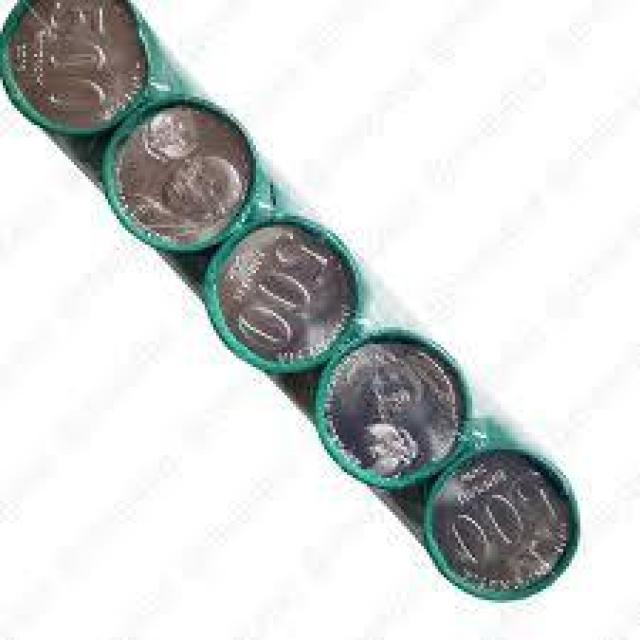500-silver: (212, 220, 358, 372)
